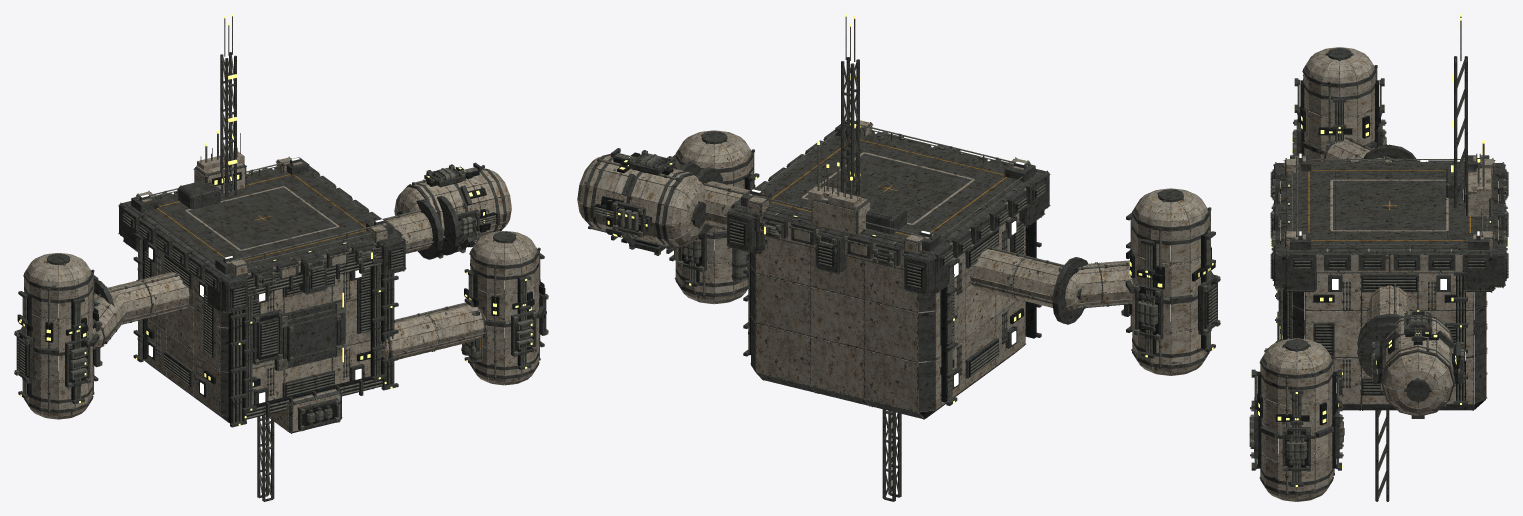
File: cluster.glb
3 views of the same model, side by side, from view 1: azimuth 30°, elevation 25°; view 2: azimuth 150°, elevation 25°; view 3: azimuth 270°, elevation 25° (orthographic). The views are drawn at different scales.
Parts seen in each view (by area): view 1: static/dark-structure, static/machined-alloy, static/landing-grey, static/recess-black, static/cladding-armour-1, static/cladding-armour-0, static/cladding-armour-3, static/cladding-armour-2, static/cladding-dark-structure, static/blue-grey-1, static/armour-1, static/amber-lamp; view 2: static/dark-structure, static/cladding-armour-1, static/cladding-armour-0, static/machined-alloy, static/landing-grey, static/cladding-armour-2, static/cladding-dark-structure, static/cladding-armour-3, static/recess-black, static/armour-1, static/cladding-blue-grey-2; view 3: static/dark-structure, static/landing-grey, static/cladding-armour-1, static/machined-alloy, static/cladding-armour-3, static/cladding-dark-structure, static/recess-black, static/cladding-armour-0, static/cladding-armour-2, static/armour-1, static/amber-lamp, static/cladding-blue-grey-1 (+2 smaller).
Boxes of the visible parts, x1,y1,x2,y2 form: static/dark-structure: (14,52,548,501); static/machined-alloy: (14,16,548,496); static/landing-grey: (143,169,374,267); static/recess-black: (17,166,545,426); static/cladding-armour-1: (24,157,538,432); static/cladding-armour-0: (29,192,510,414); static/cladding-armour-3: (26,167,538,415); static/cladding-armour-2: (81,169,538,404); static/cladding-dark-structure: (119,158,405,433); static/blue-grey-1: (291,318,336,356); static/armour-1: (138,151,386,263); static/amber-lamp: (19,14,542,425); static/dark-structure: (583,57,1220,501); static/cladding-armour-1: (577,120,1209,409); static/cladding-armour-0: (589,136,1207,411); static/machined-alloy: (584,16,1220,496); static/landing-grey: (762,133,1022,243); static/cladding-armour-2: (586,157,1189,405); static/cladding-dark-structure: (727,123,1049,418); static/cladding-armour-3: (589,155,1203,417); static/recess-black: (595,150,1216,402); static/armour-1: (748,126,1027,239); static/cladding-blue-grey-2: (736,136,1040,244); static/dark-structure: (1249,48,1508,501); static/landing-grey: (1293,163,1486,248); static/cladding-armour-1: (1262,47,1494,501); static/machined-alloy: (1250,16,1508,499); static/cladding-armour-3: (1261,73,1493,461); static/cladding-dark-structure: (1274,159,1505,410); static/recess-black: (1255,80,1507,482); static/cladding-armour-0: (1268,73,1486,489); static/cladding-armour-2: (1260,116,1491,491); static/armour-1: (1280,156,1498,404); static/amber-lamp: (1249,14,1508,486); static/cladding-blue-grey-1: (1287,180,1492,252).
Size of the model in its own units: 893 by 748 by 364.
15 materials, 13 textured.
